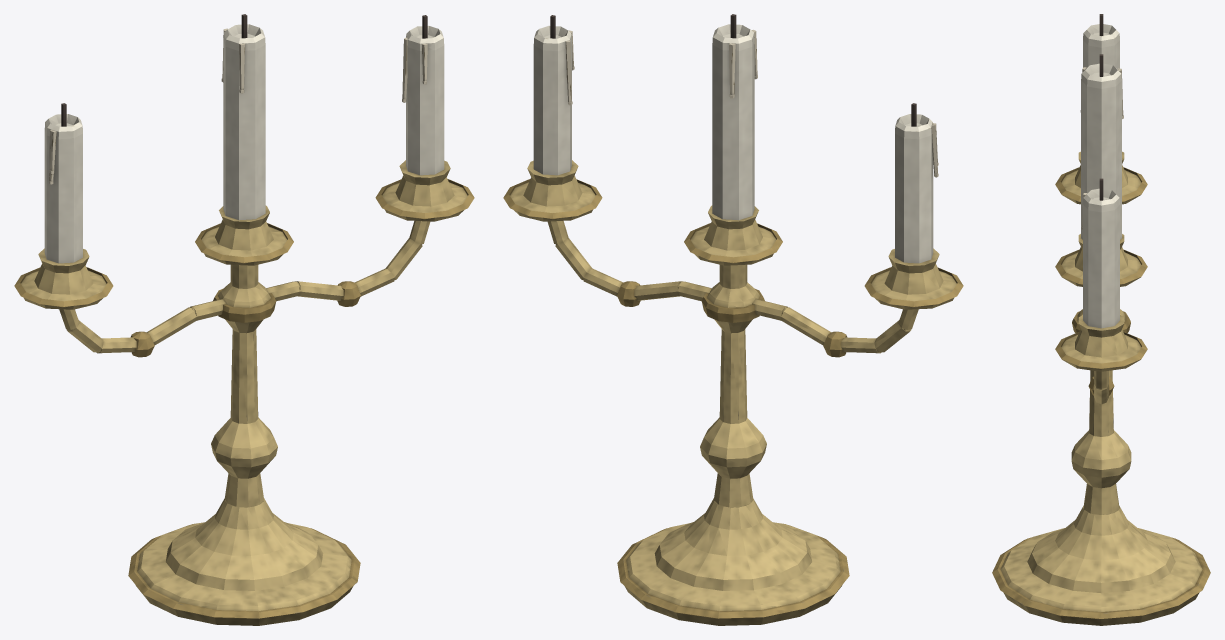
The model's file is candelabra_tex.glb.
3 renders of one model, left to right at view 1: azimuth 30°, elevation 25°; view 2: azimuth 150°, elevation 25°; view 3: azimuth 270°, elevation 25°, orthographic. The views are drawn at different scales.
Parts seen in each view (by area): view 1: candelabra; view 2: candelabra; view 3: candelabra.
Part boxes in pixels (x1,y1,x2,y2): candelabra: (14,14,474,625); candelabra: (503,14,963,625); candelabra: (992,14,1210,625).
Size of the model in its own units: 0.52 by 0.628 by 0.236.
5 materials, 5 textured.
